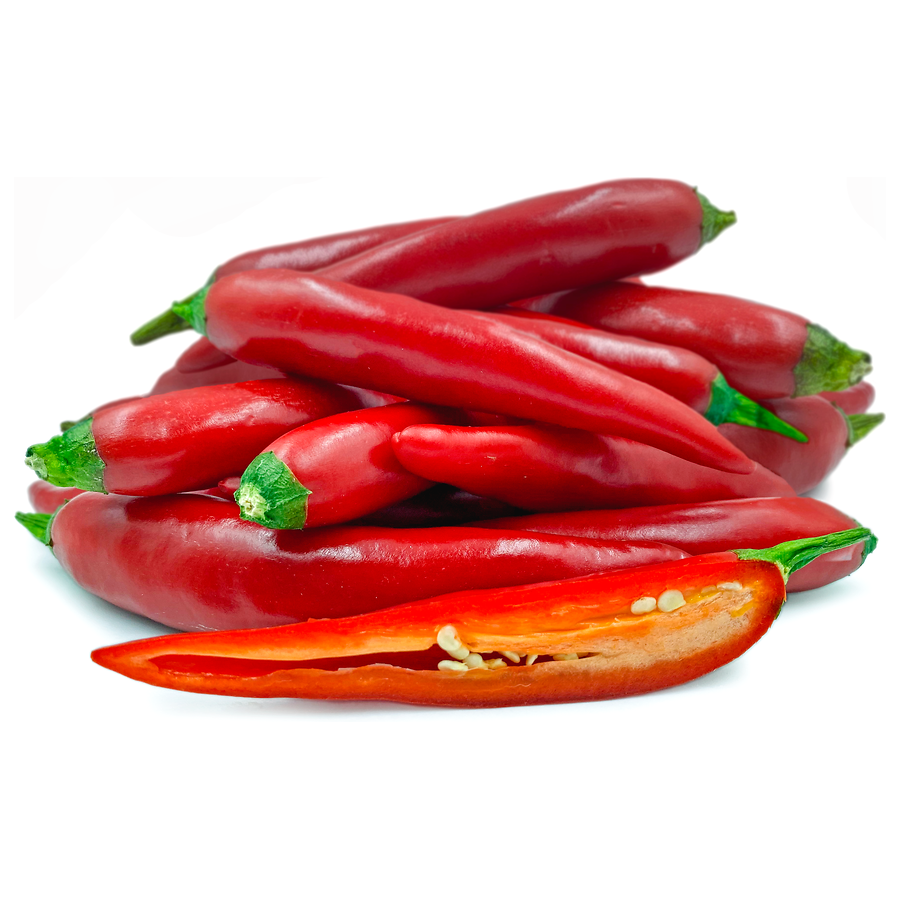Cabai: (61, 148, 783, 747)
